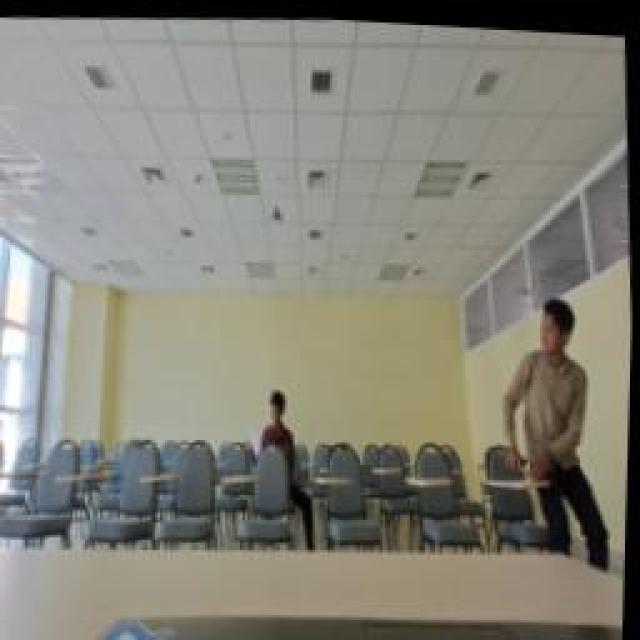study: (245, 383, 300, 475)
